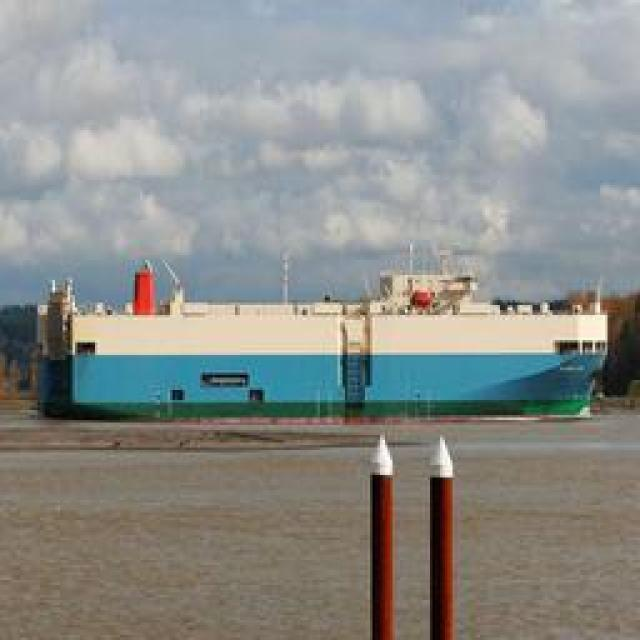ship: (40, 288, 612, 418)
